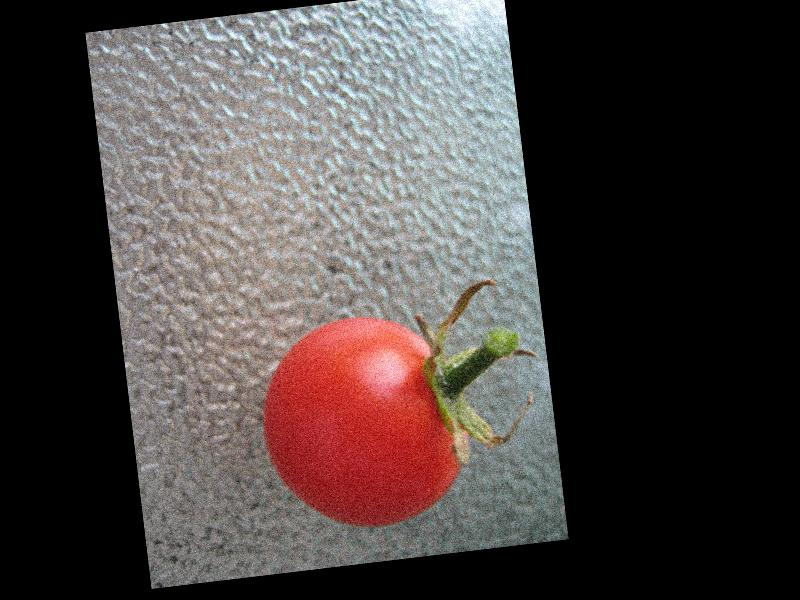Tomato: (250, 304, 467, 537)
